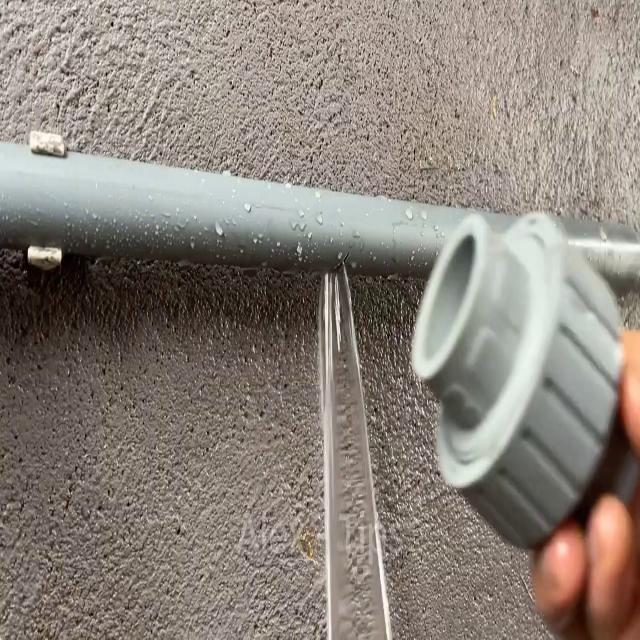leak: (324, 258, 393, 640)
